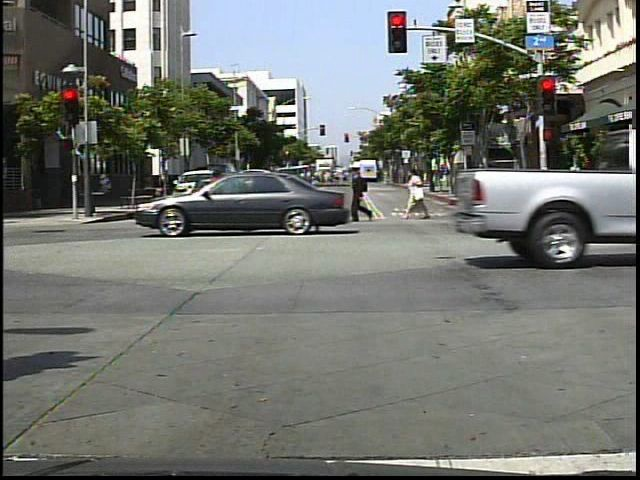person: (345, 164, 380, 229), (398, 162, 429, 226), (565, 158, 588, 208), (203, 166, 226, 188)
